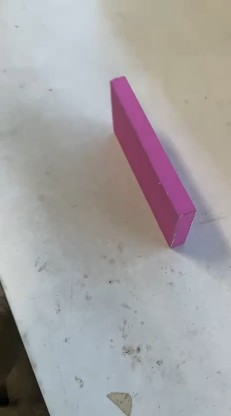pink: (91, 121, 231, 306)
